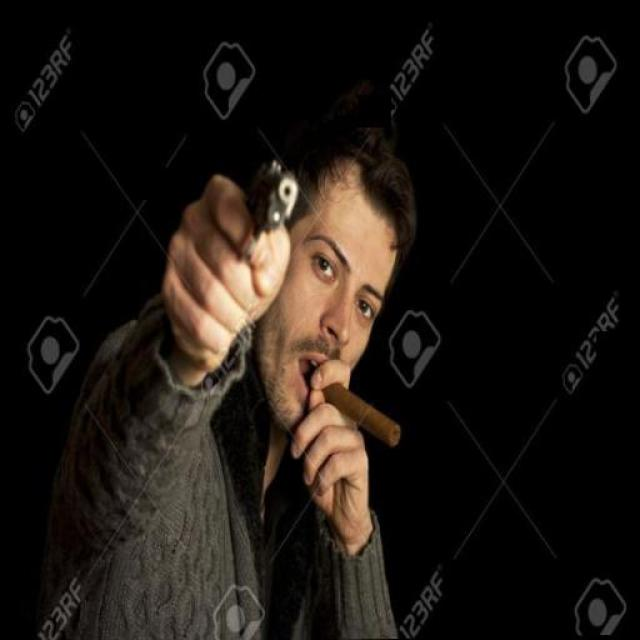gun: (228, 152, 300, 266)
